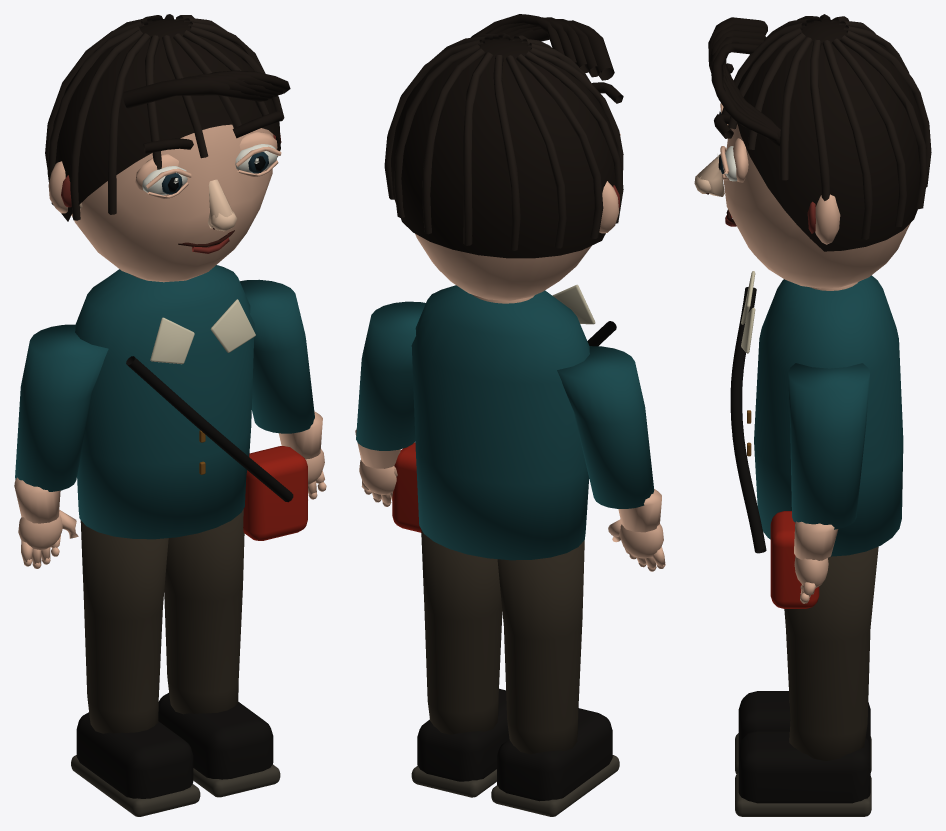
Rendered from patient-13.glb.
3 views of the same model, side by side, from view 1: azimuth 30°, elevation 25°; view 2: azimuth 150°, elevation 25°; view 3: azimuth 270°, elevation 25° (orthographic).
Parts seen in each view (by area): view 1: Head, Body, LegL, LegR, ArmL, ArmR; view 2: Head, Body, LegL, LegR, ArmL, ArmR; view 3: Head, Body, LegR, ArmR, LegL.
Part boxes in pixels (left/top/right/bottom): Head: left=45, top=14, right=290, bottom=282; Body: left=75, top=265, right=307, bottom=540; LegL: left=71, top=520, right=200, bottom=816; LegR: left=158, top=509, right=280, bottom=797; ArmL: left=14, top=324, right=108, bottom=568; ArmR: left=240, top=279, right=326, bottom=499; Head: left=384, top=14, right=623, bottom=300; Body: left=392, top=284, right=616, bottom=560; LegL: left=491, top=540, right=619, bottom=816; LegR: left=411, top=530, right=509, bottom=797; ArmL: left=557, top=346, right=665, bottom=571; ArmR: left=355, top=301, right=425, bottom=506; Head: left=694, top=14, right=931, bottom=288; Body: left=730, top=271, right=903, bottom=608; LegR: left=735, top=546, right=878, bottom=816; ArmR: left=788, top=363, right=869, bottom=603; LegL: left=735, top=691, right=871, bottom=773.
Size of the model in its own units: 0.5669 by 1.33 by 0.3786.
